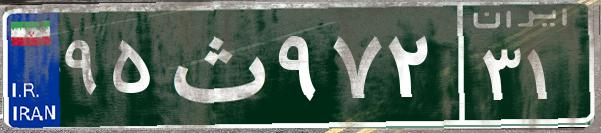1: (525, 38, 570, 115)
2: (385, 28, 445, 110)
3: (475, 38, 525, 113)
5: (110, 28, 158, 105)
7: (330, 28, 385, 110)
9: (273, 28, 330, 110), (57, 26, 110, 107)
ث: (158, 15, 273, 115)
